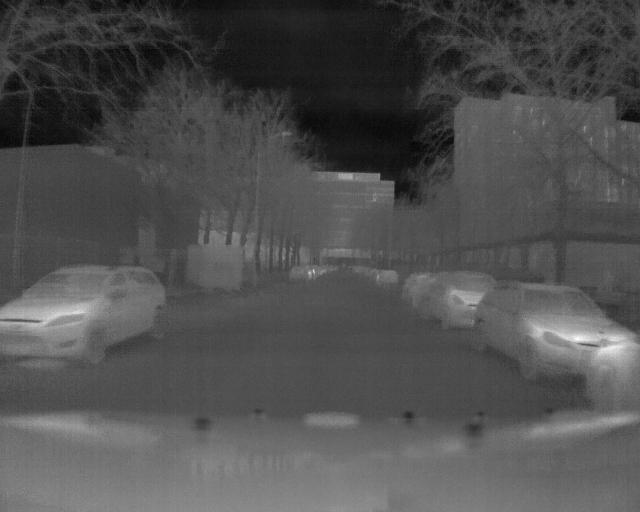car: (1, 262, 170, 365), (475, 280, 639, 384), (420, 274, 473, 324)
